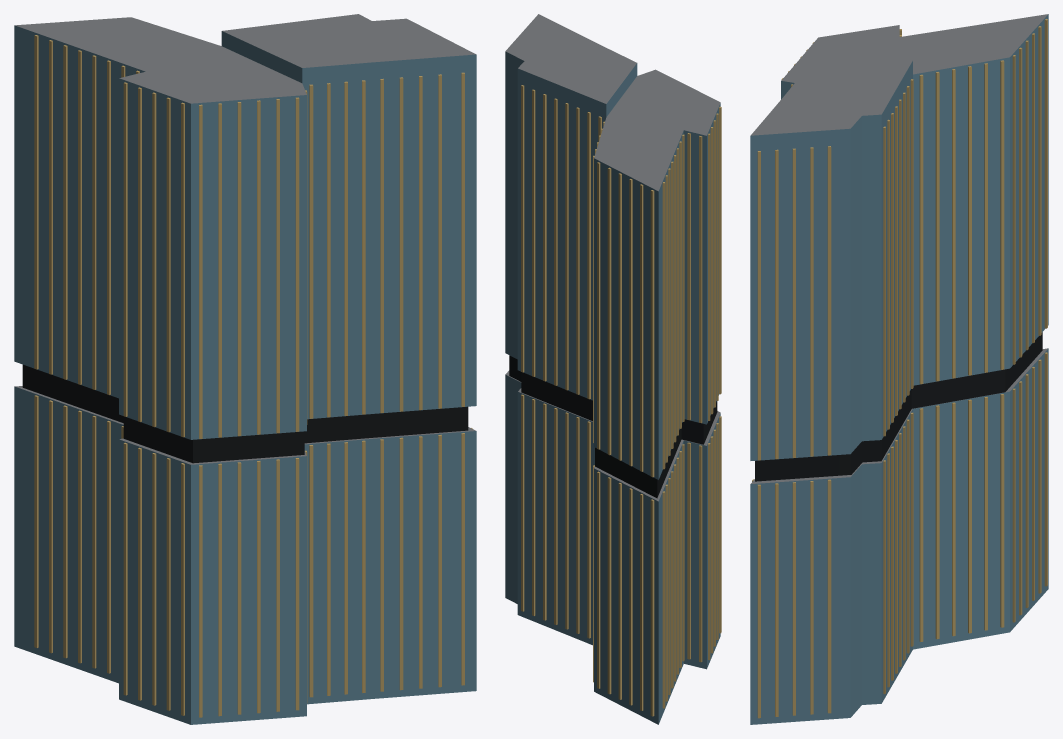
Rendered from waldorf.glb.
3 renders of one model, left to right at view 1: azimuth 30°, elevation 25°; view 2: azimuth 150°, elevation 25°; view 3: azimuth 270°, elevation 25°, orthographic. The views are drawn at different scales.
Visible parts, largest first — view 1: Tower; view 2: Tower; view 3: Tower.
Part boxes in pixels (<box>): Tower: <box>14,14,476,724</box>; Tower: <box>505,14,721,724</box>; Tower: <box>750,14,1048,724</box>.
Bounding box in the file's own units: 82.56 × 166 × 76.32.
